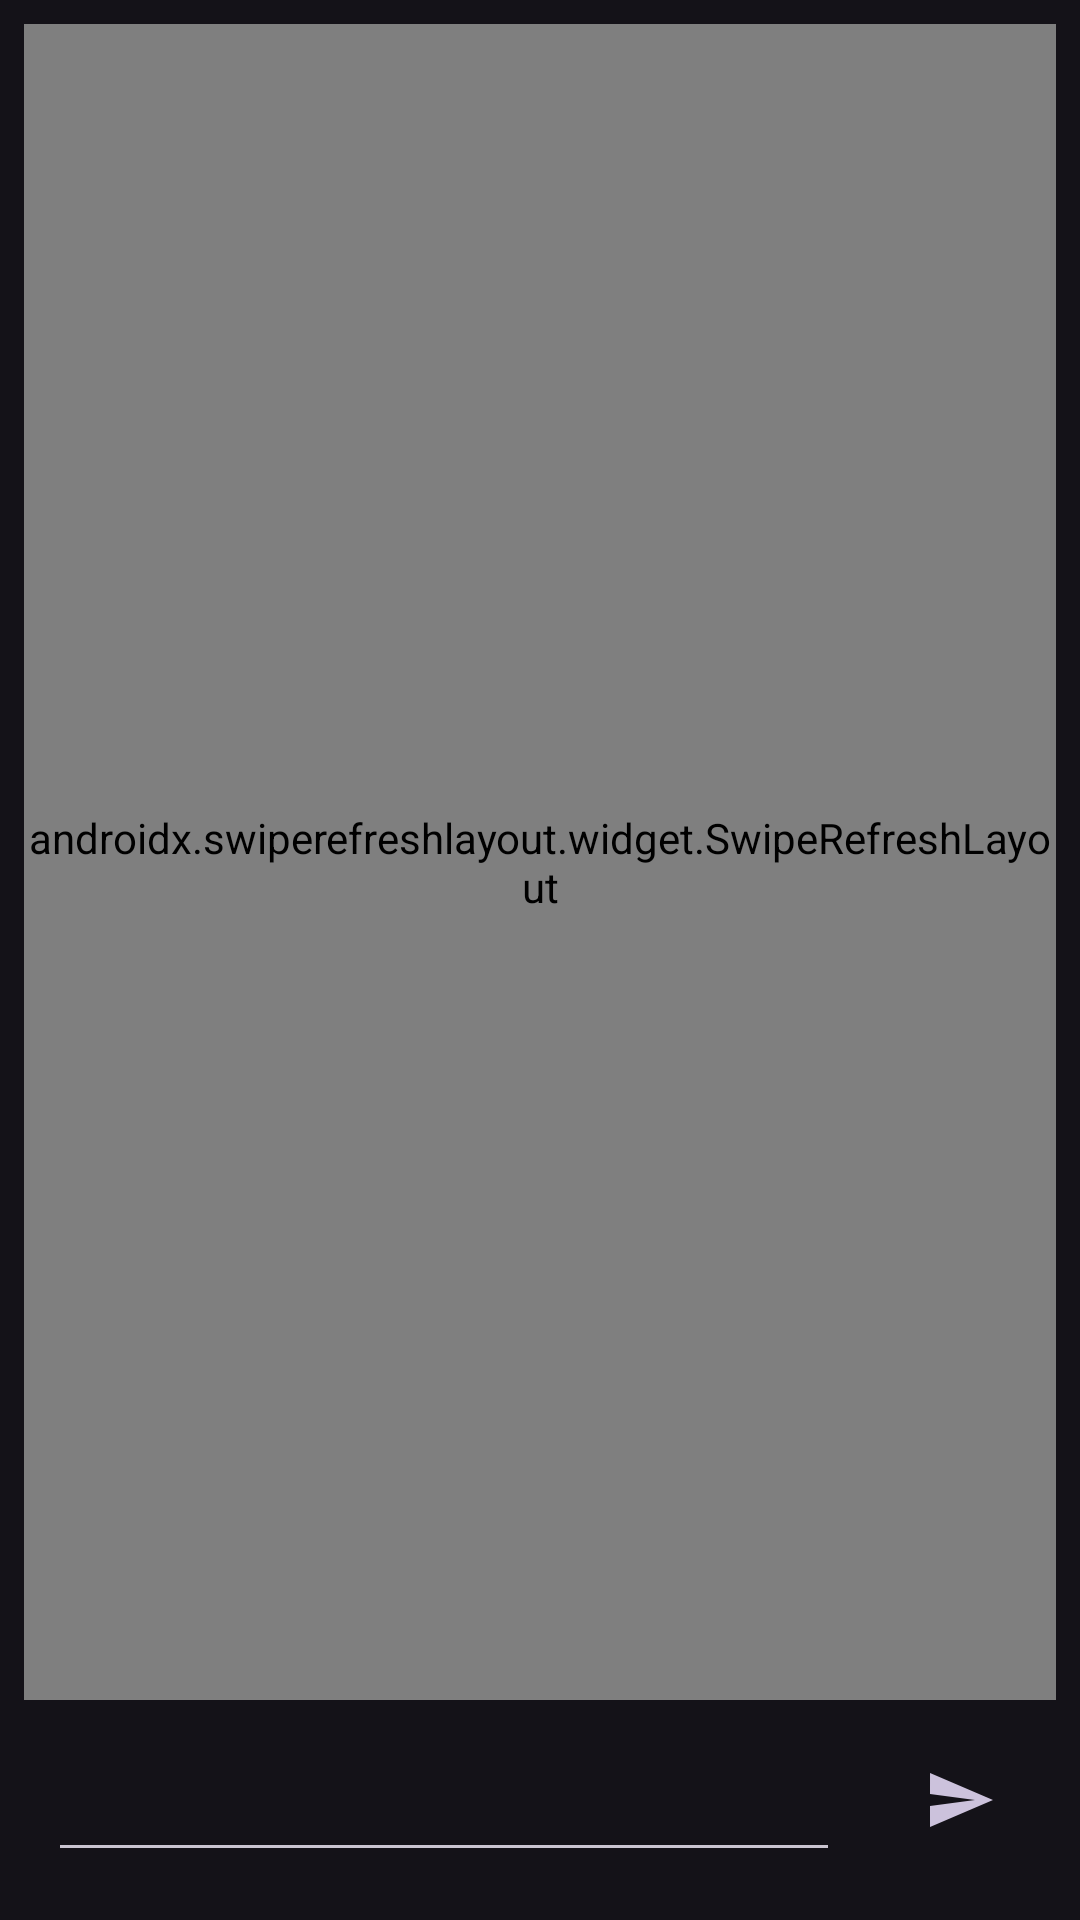

Named icons in this screenshot (1080x1920) and their centers, [x,y]:
send: [961,1800]
